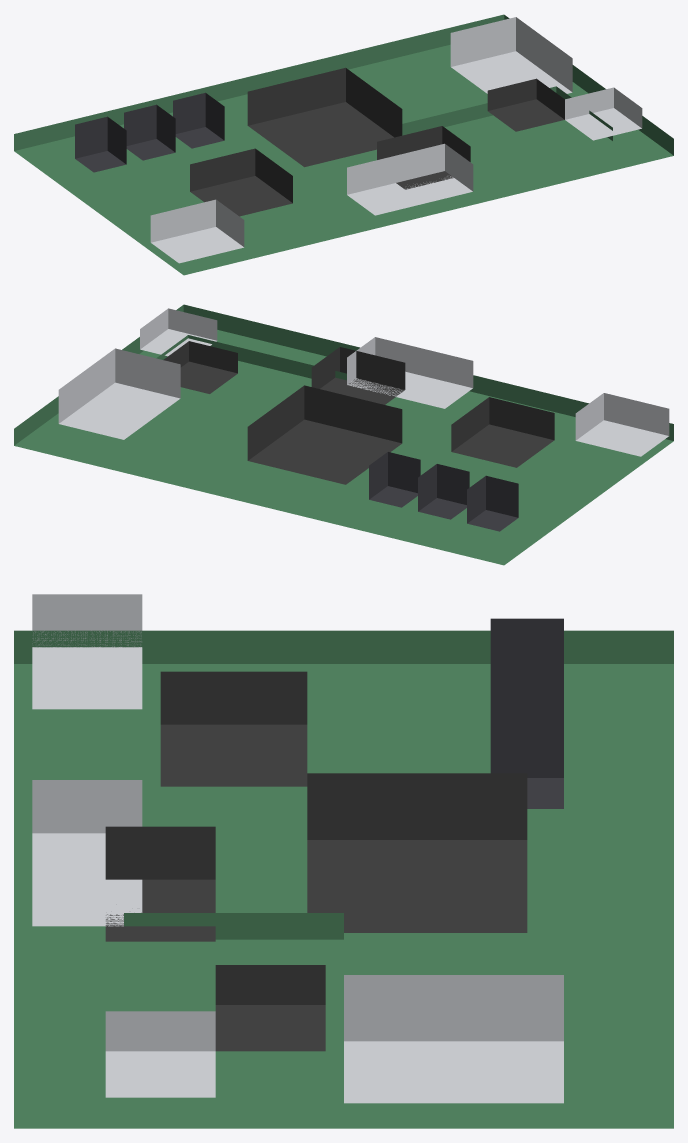
The model's file is mainboard.gltf.
3 renders of one model, top to bottom at view 1: azimuth 30°, elevation 25°; view 2: azimuth 150°, elevation 25°; view 3: azimuth 270°, elevation 25°, orthographic. The views are drawn at different scales.
Parts seen in each view (by area): view 1: mainboard; view 2: mainboard; view 3: mainboard.
Boxes of the visible parts, bbox=[...] form: mainboard: bbox=[14, 14, 673, 275]; mainboard: bbox=[14, 304, 673, 565]; mainboard: bbox=[14, 594, 673, 1128].
Bounding box in the file's own units: 0.3 × 0.023 × 0.18.
